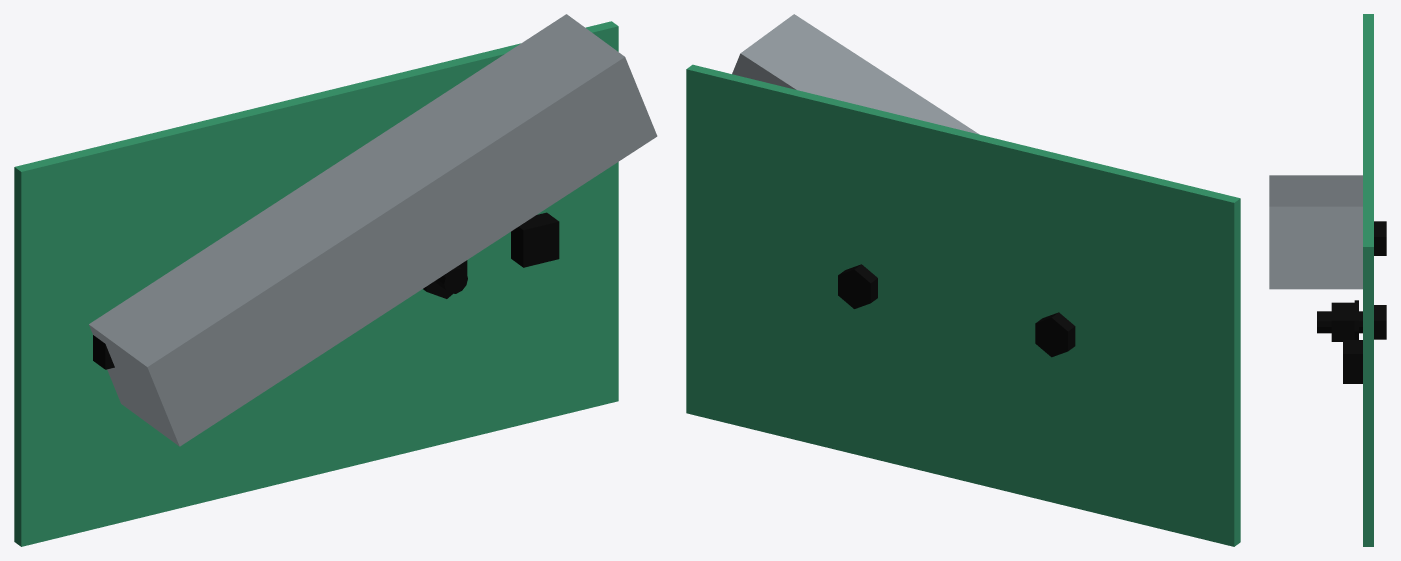
Rendered from typical_base_plate_to_stringer_beam_connection_detail.obj.
3 renders of one model, left to right at view 1: azimuth 30°, elevation 25°; view 2: azimuth 150°, elevation 25°; view 3: azimuth 270°, elevation 25°, orthographic. The views are drawn at different scales.
Visible parts, largest first — view 1: base_plate_10mm_500x300, TFC180x75x7_stringer_on_base, weld_3mm_symbolic_right, bolt_M20_from_f20_base_anchor_2; view 2: base_plate_10mm_500x300, TFC180x75x7_stringer_on_base, bolt_M20_from_f20_base_anchor_1, bolt_M20_from_f20_base_anchor_2; view 3: TFC180x75x7_stringer_on_base, base_plate_10mm_500x300, bolt_M20_from_f20_base_anchor_2, weld_3mm_symbolic_right, bolt_M20_from_f20_base_anchor_1.
Boxes of the visible parts, box(x1,y1,x2,y2) form: base_plate_10mm_500x300: box(14, 21, 618, 546); TFC180x75x7_stringer_on_base: box(89, 14, 657, 446); weld_3mm_symbolic_right: box(511, 212, 559, 267); bolt_M20_from_f20_base_anchor_2: box(423, 260, 467, 298); base_plate_10mm_500x300: box(686, 64, 1240, 546); TFC180x75x7_stringer_on_base: box(732, 14, 979, 134); bolt_M20_from_f20_base_anchor_1: box(1035, 312, 1075, 357); bolt_M20_from_f20_base_anchor_2: box(838, 264, 877, 308); TFC180x75x7_stringer_on_base: box(1269, 175, 1362, 289); base_plate_10mm_500x300: box(1363, 14, 1373, 546); bolt_M20_from_f20_base_anchor_2: box(1317, 300, 1386, 341); weld_3mm_symbolic_right: box(1343, 340, 1362, 383); bolt_M20_from_f20_base_anchor_1: box(1374, 221, 1386, 255).
Bounding box in the file's own units: 500 × 320 × 107.
